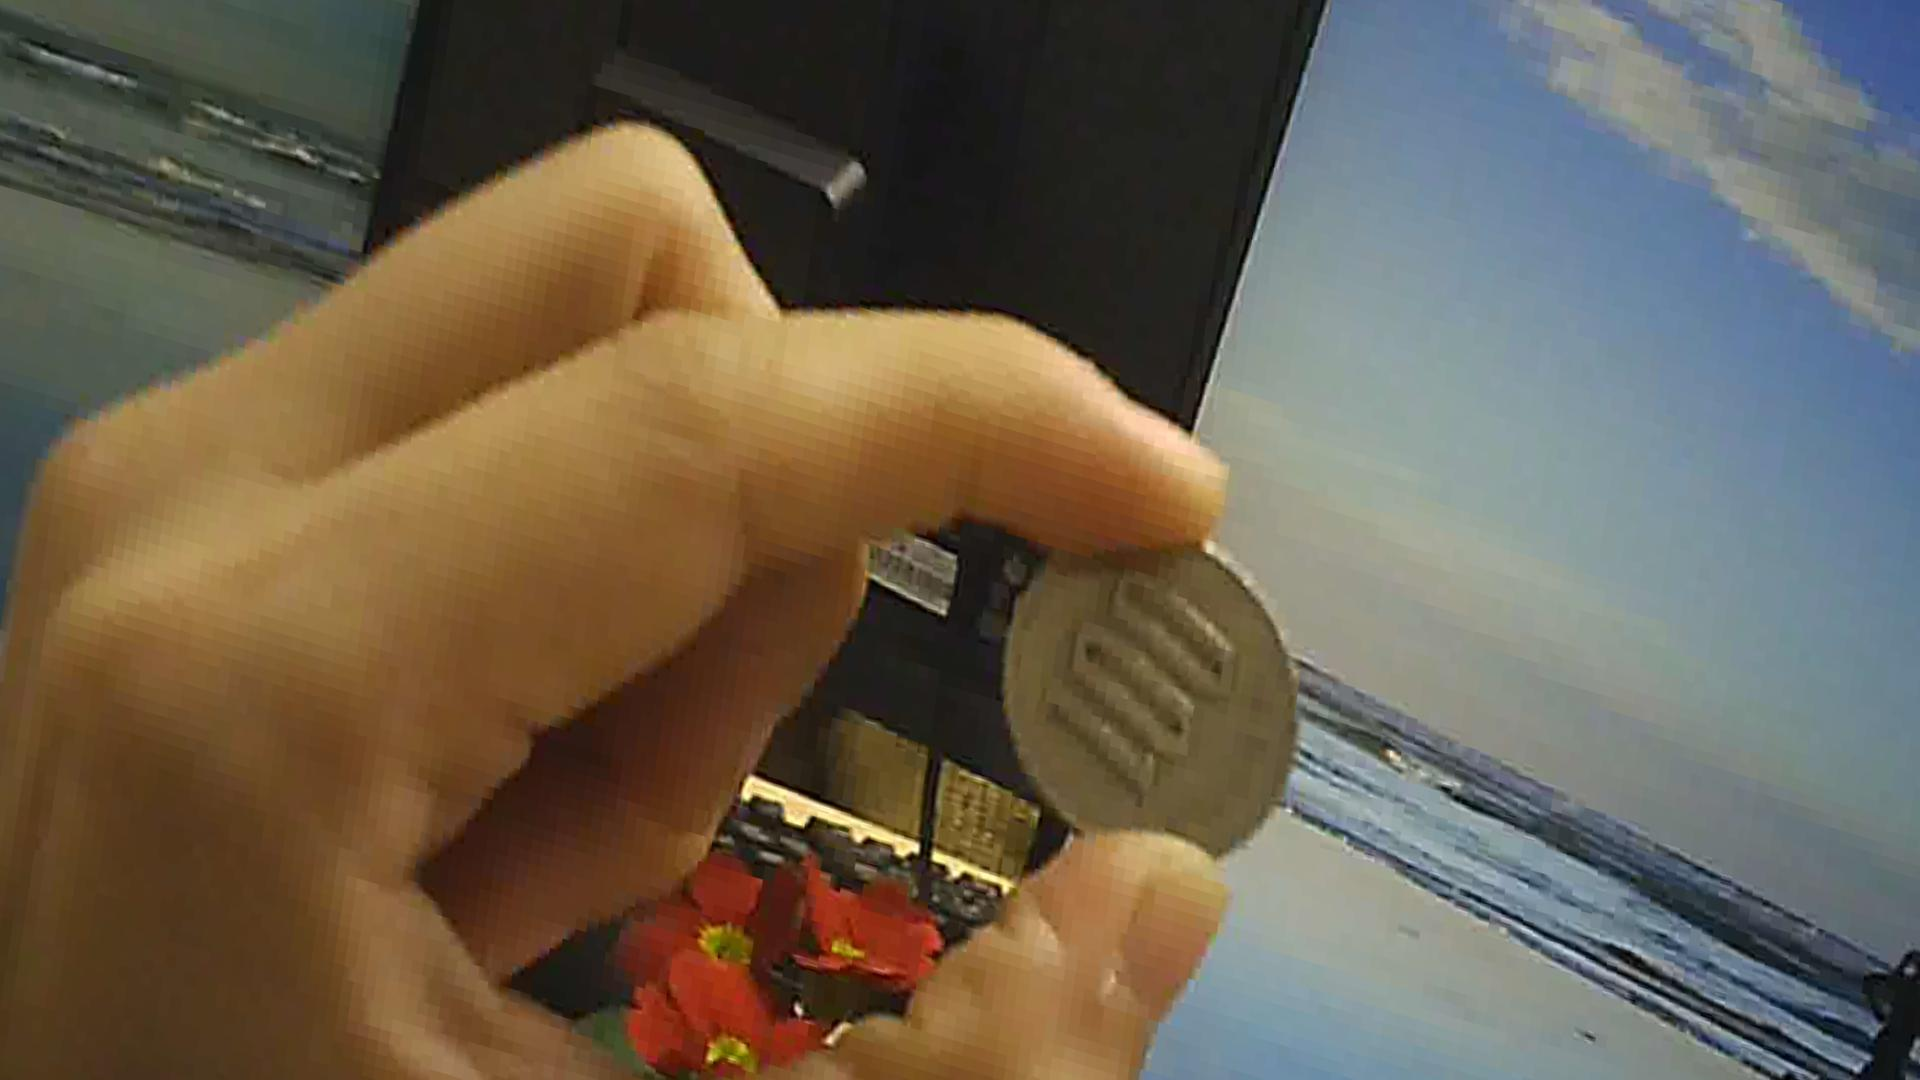100 Yen: (1005, 518, 1298, 856)
